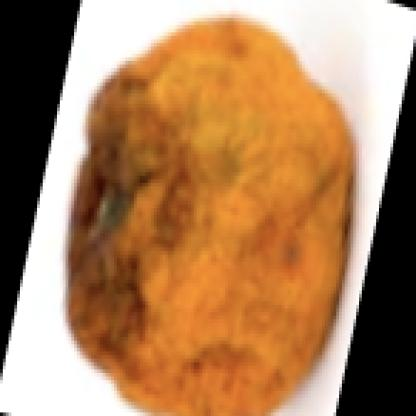rotten: (71, 15, 354, 416)
